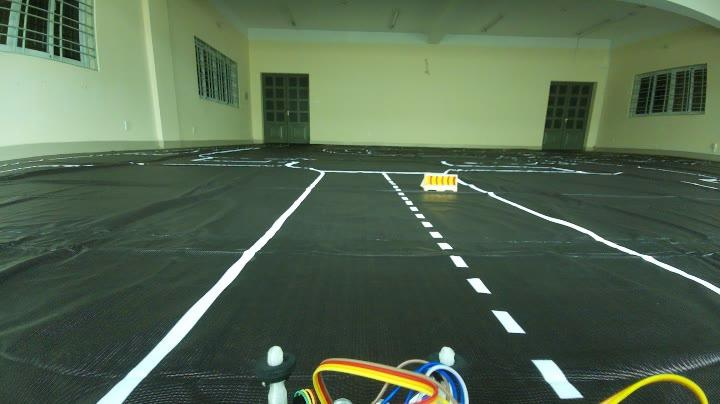roadblock: (416, 168, 473, 206)
